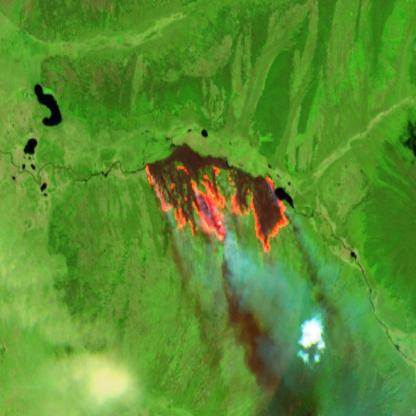fire: (143, 158, 290, 258)
